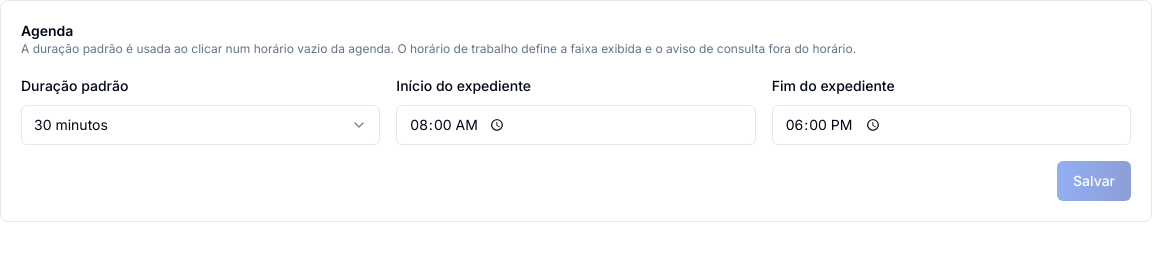
Test case: AgendaSettingsForm › bloqueia expediente com início depois do fim
The image size is (1152, 275).
Replace the text in the time field labelled "Fim do expediente" with "07:00" at (951, 125), box [772,105,1131,145]
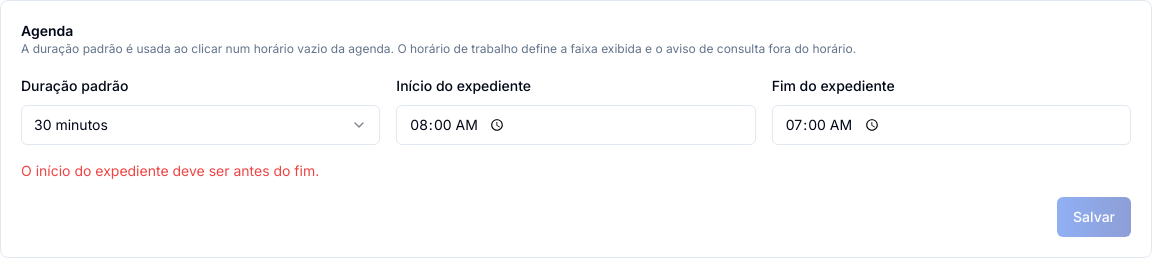
Check: the button "Salvar" is disabled, box [1057,197,1131,237]
Check: the text "O início do expediente deve ser antes do fim." is shown, box [21,162,319,179]
